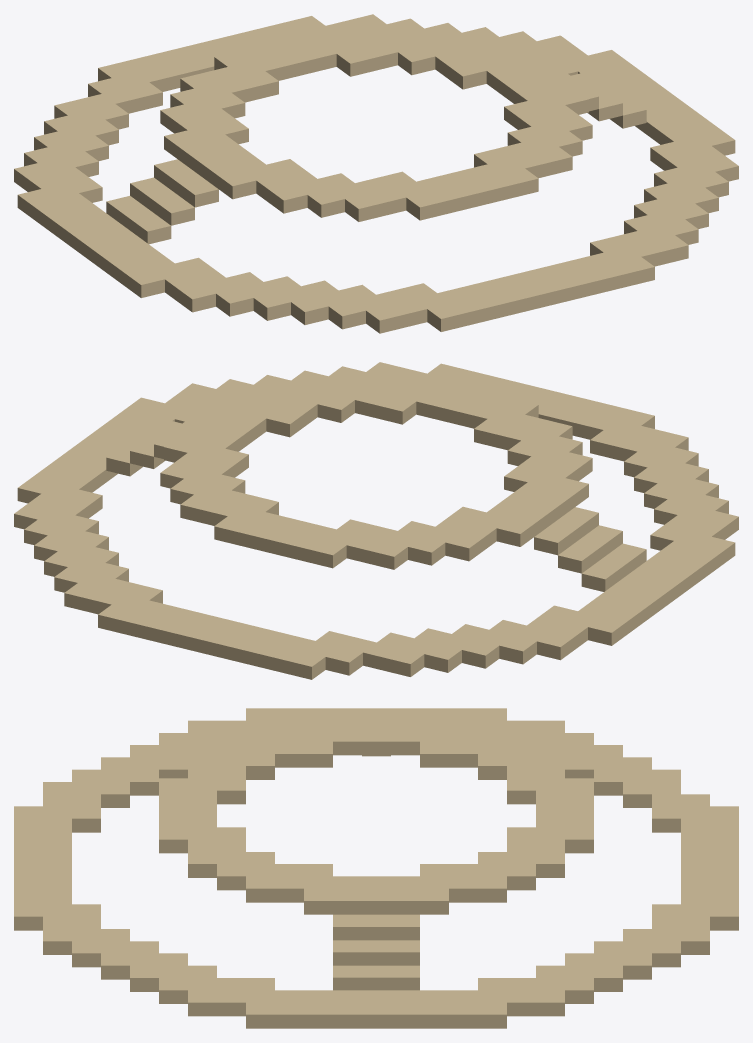
The model's file is Sphere_TopPlatform.fbx.
3 renders of one model, top to bottom at view 1: azimuth 30°, elevation 25°; view 2: azimuth 150°, elevation 25°; view 3: azimuth 270°, elevation 25°, orthographic. The views are drawn at different scales.
Visible parts, largest first — view 1: SphereTopPlatform; view 2: SphereTopPlatform; view 3: SphereTopPlatform.
Part boxes in pixels (x1,y1,x2,y2): SphereTopPlatform: [14, 14, 738, 333]; SphereTopPlatform: [14, 362, 738, 679]; SphereTopPlatform: [14, 708, 738, 1028].
Size of the model in its own units: 2525 by 255 by 2525.
